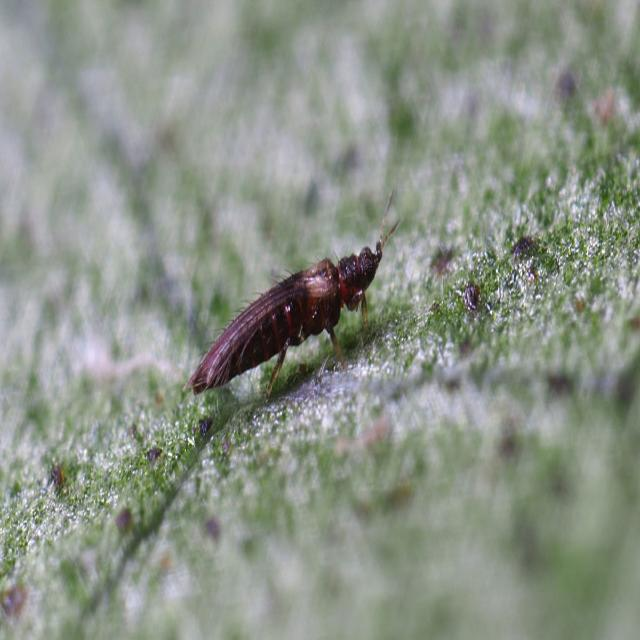Thrip-Adult-: (177, 184, 409, 422)
